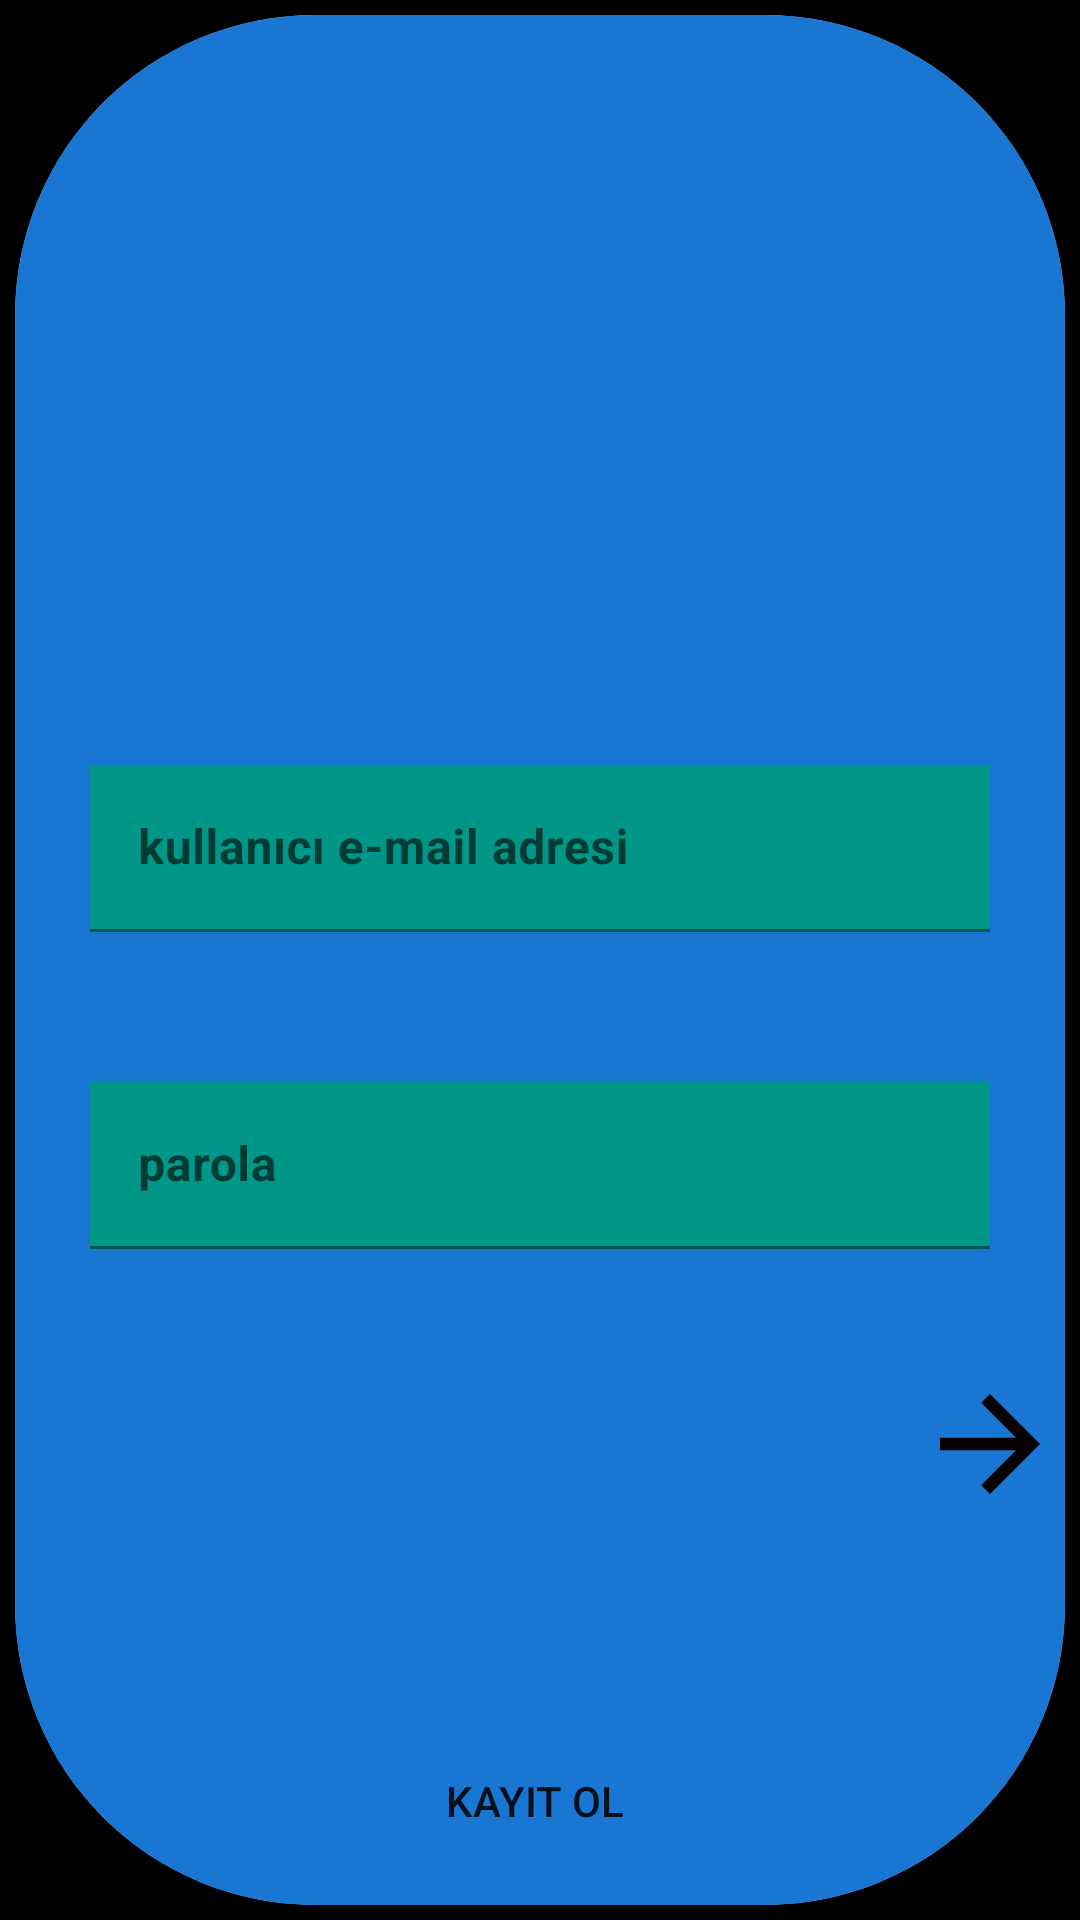

Where icons sit on this 1080 × 1920 app screen, as (x1, y1, x2, y2):
forward: (940, 1394, 1040, 1494)
